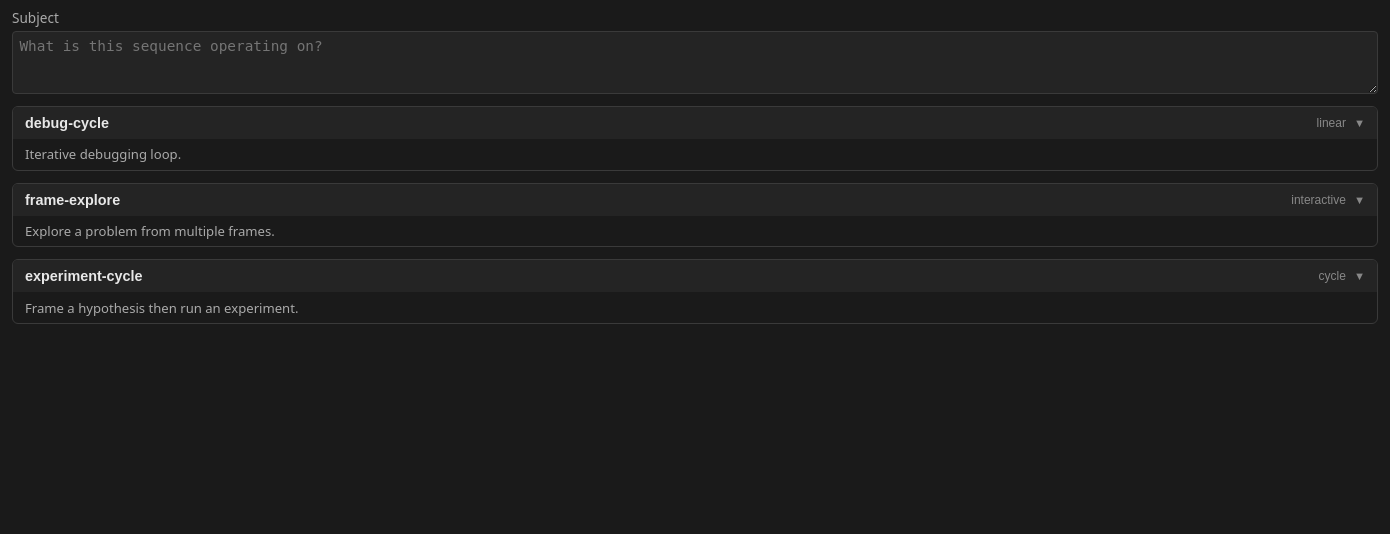
it: SequencesPanel › shows user badge for action steps
Click the button with class "seq-card-header" showing "experiment-cycle cycle ▼" at (84, 276), box x1=13 y1=260 x2=1377 y2=292
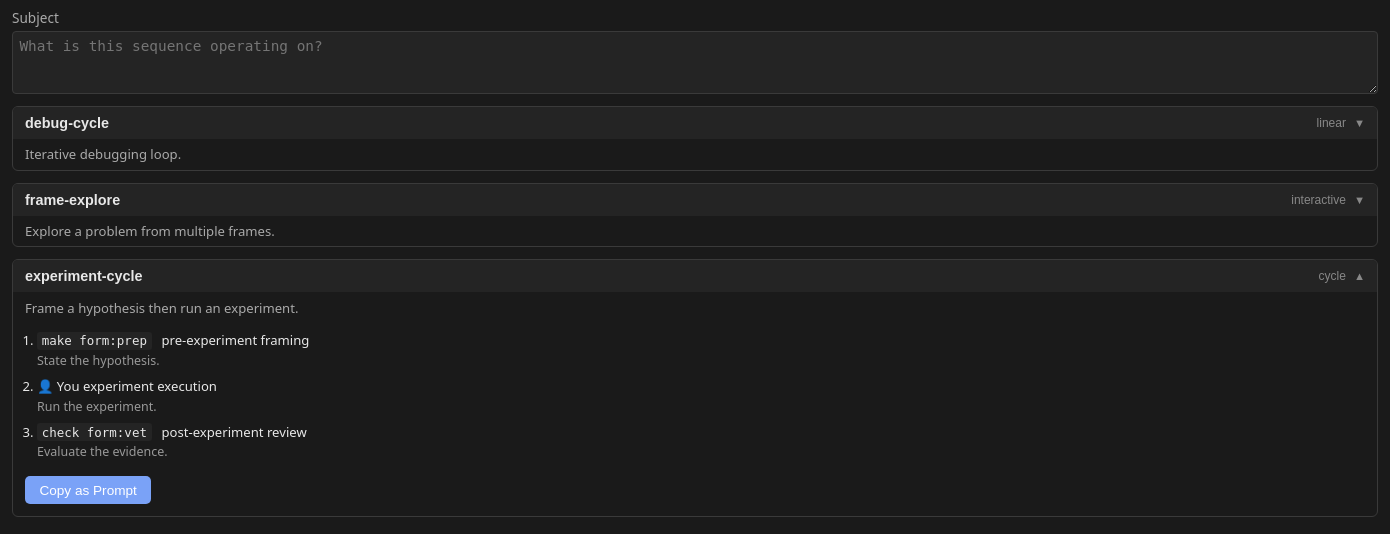
Result: the text "👤" is shown at x1=37 y1=377 x2=80 y2=395
